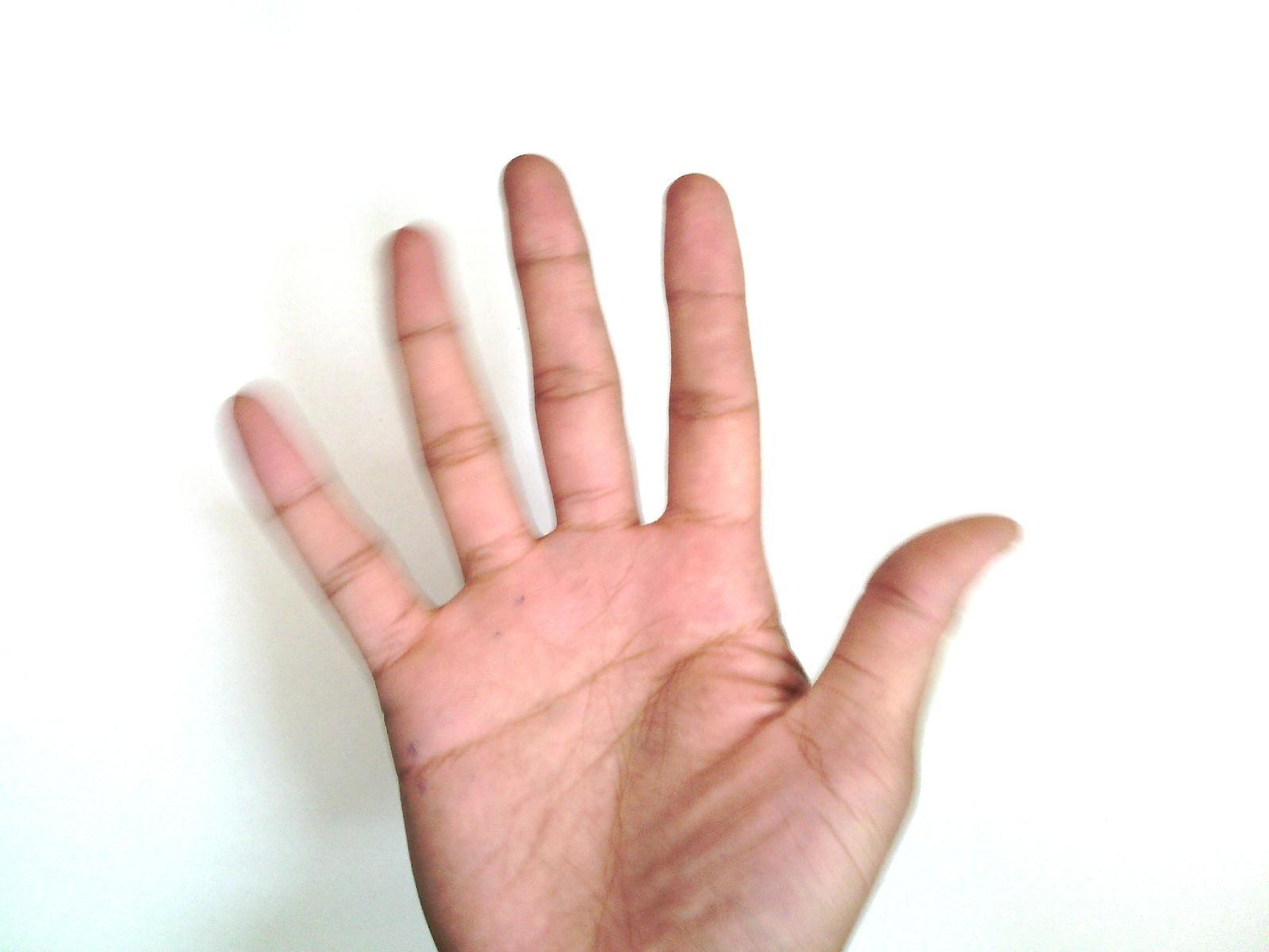open_palm: (217, 152, 1026, 951)
